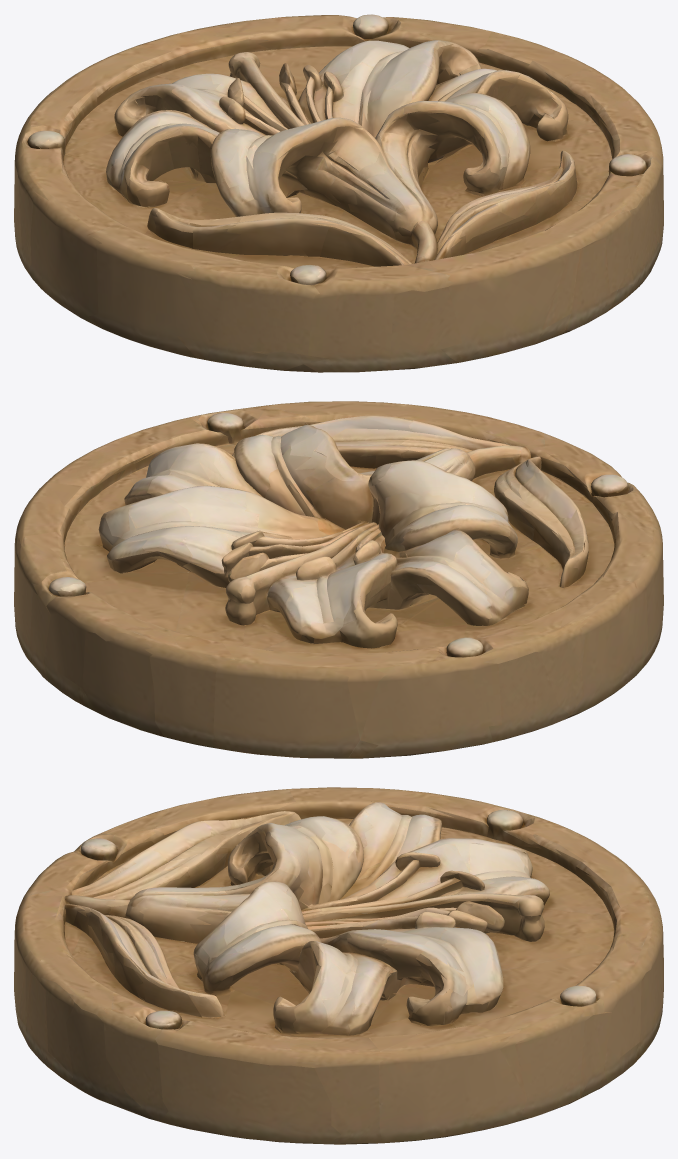
3 renders of one model, top to bottom at view 1: azimuth 30°, elevation 25°; view 2: azimuth 150°, elevation 25°; view 3: azimuth 270°, elevation 25°, orthographic.
Visible parts, largest first — view 1: Mesh_0; view 2: Mesh_0; view 3: Mesh_0.
Boxes of the visible parts, x1,y1,x2,y2 form: Mesh_0: [14, 14, 663, 372]; Mesh_0: [14, 401, 663, 758]; Mesh_0: [14, 787, 663, 1144].
Bounding box in the file's own units: 1.9 × 0.4841 × 1.9.
Materials: 1 (1 with a texture image).
